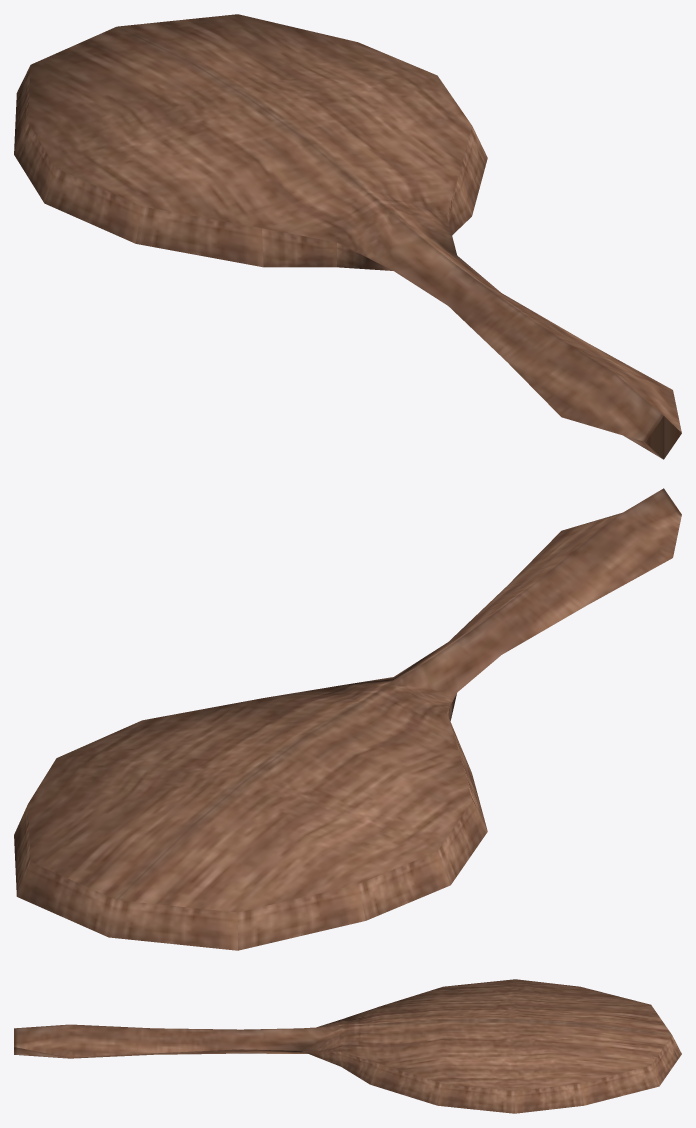
Rendered from shop_barber_handMirrorWood.fbx.
The picture shows the model from 3 angles, top to bottom: view 1: azimuth 30°, elevation 25°; view 2: azimuth 150°, elevation 25°; view 3: azimuth 270°, elevation 25°; orthographic projection. The views are drawn at different scales.
Visible parts, largest first — view 1: handMirror; view 2: handMirror; view 3: handMirror.
Boxes of the visible parts, bbox=[...] form: handMirror: bbox=[14, 14, 681, 459]; handMirror: bbox=[14, 488, 681, 950]; handMirror: bbox=[14, 979, 681, 1113].
Size of the model in its own units: 33.93 by 5.12 by 80.29.
Materials: 1 (1 with a texture image).
